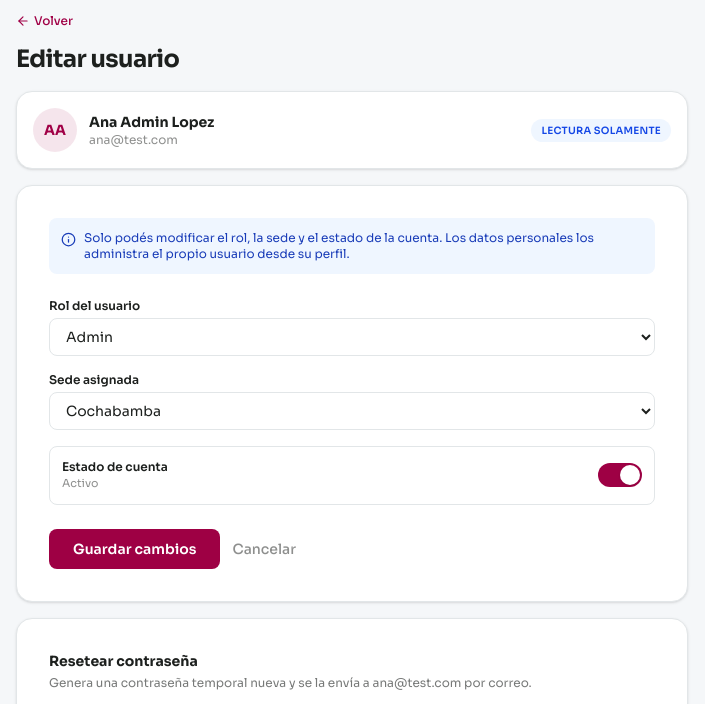
Test: EditarUsuarioPage › muestra el error del servidor si falla el guardado (ej. sede ya tiene admin)
Expected: the text "Ana Admin Lopez" is shown, [89,113,214,131]
Click the button "Guardar cambios".
click(135, 548)  # box [49,528,220,568]
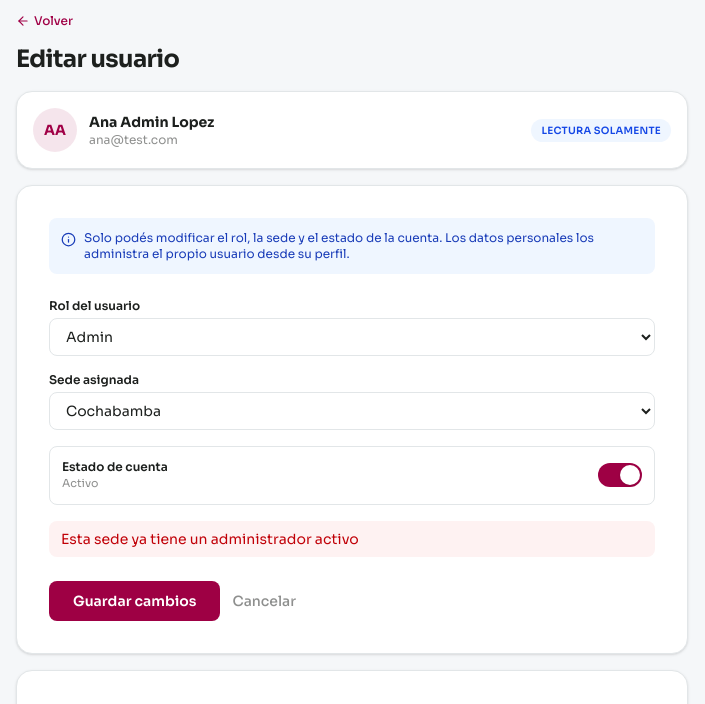
Expected: the text "Esta sede ya tiene un administrador activo" is shown, [49,520,655,556]
